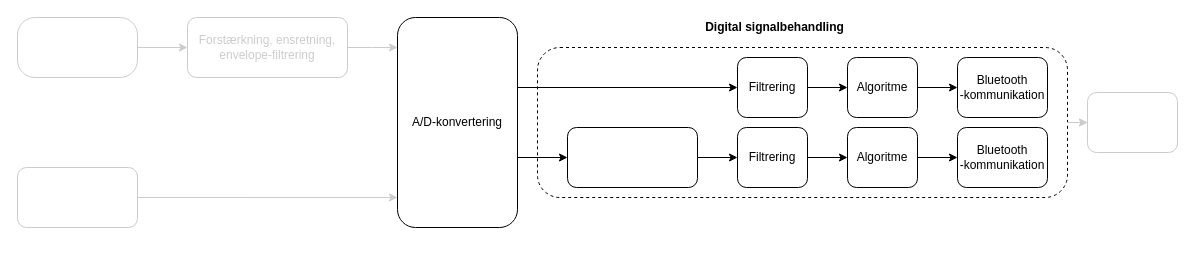
The diagram is 1195 pixels wide and 253 high, and some of its shapes have lost their labels. The shapes that lost their labels are listed below. From the top down, each one's centre as x and y in pixels, then its label:
At (77,47): "Elektroder".
At (1132,122): "Exoskelet".
At (632,157): "Offset-justering".
At (77,197): "Accelerometer".
